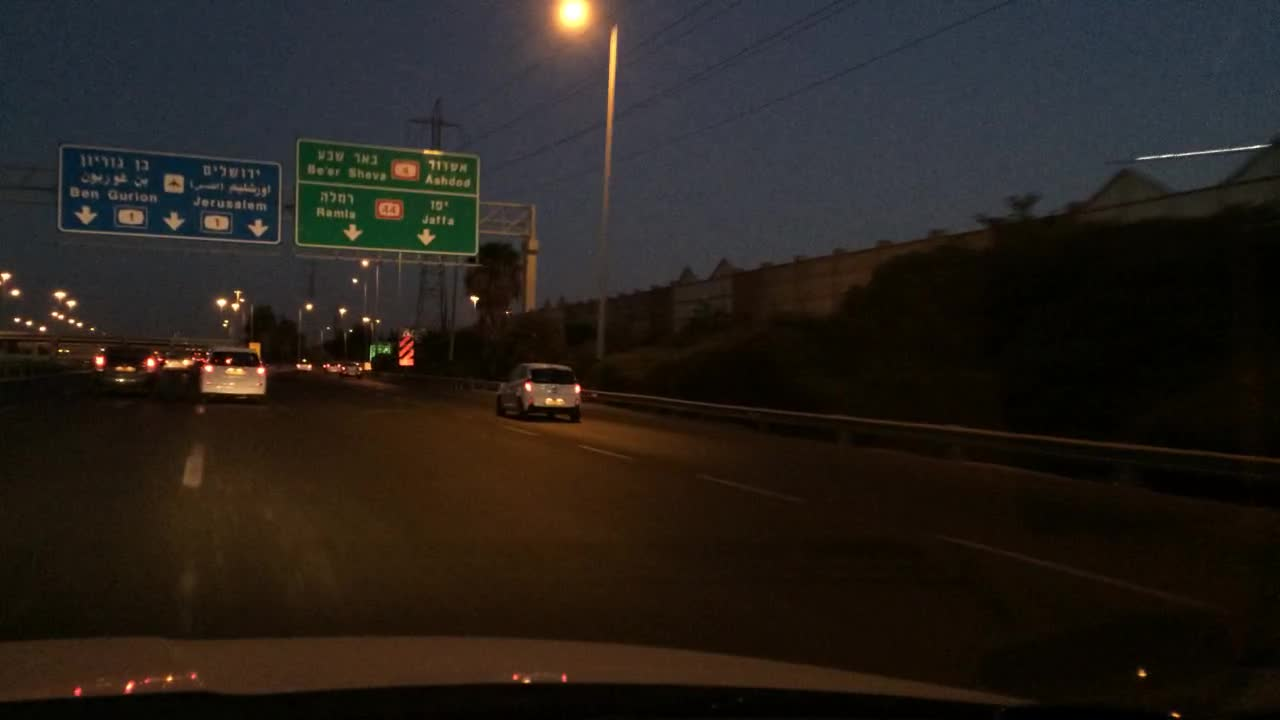car: (492, 358, 584, 425), (199, 346, 266, 398), (91, 344, 158, 393), (155, 346, 195, 373), (339, 359, 364, 378), (293, 354, 314, 374), (320, 358, 342, 374), (187, 347, 209, 361)
traffic sign: (57, 145, 278, 245), (293, 140, 476, 253), (368, 341, 391, 361), (246, 341, 260, 354)
